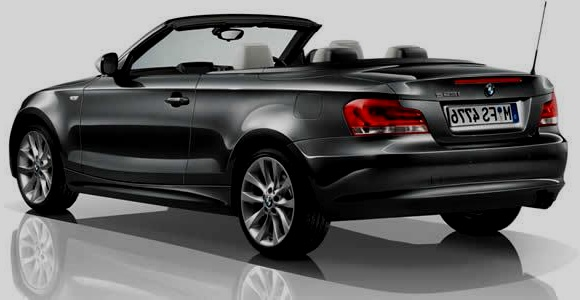car: (0, 12, 575, 263)
